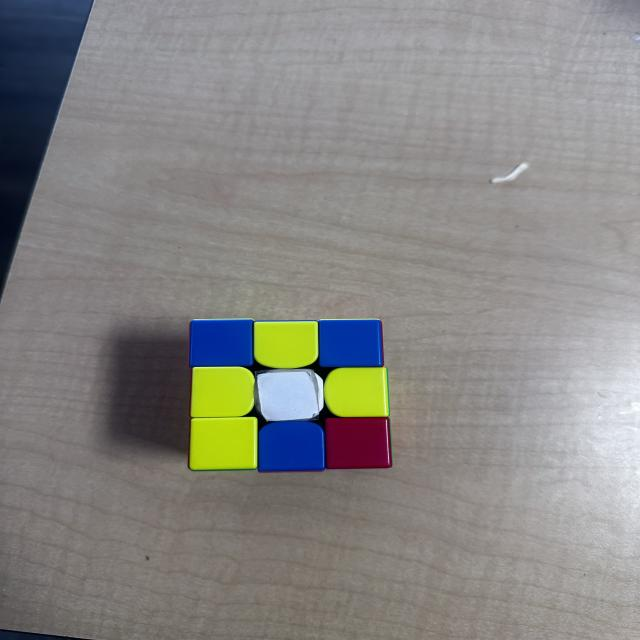sticker: (321, 416, 394, 472), (188, 416, 260, 472), (257, 419, 327, 474), (187, 318, 256, 371), (316, 318, 384, 371), (190, 366, 256, 419), (323, 367, 389, 419), (252, 320, 319, 370), (257, 373, 322, 417)
